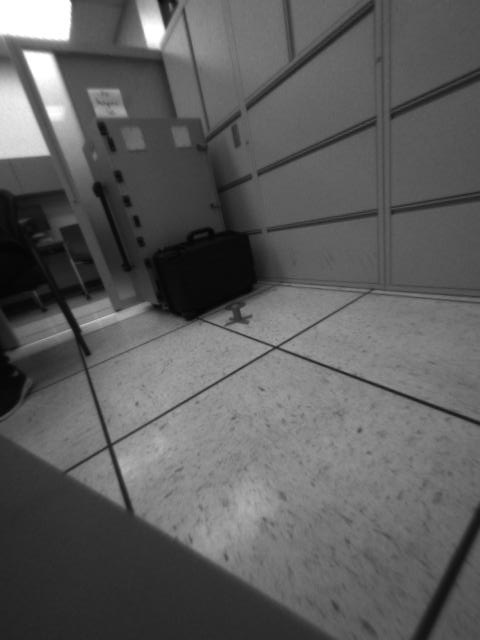X: (223, 304, 253, 325)
